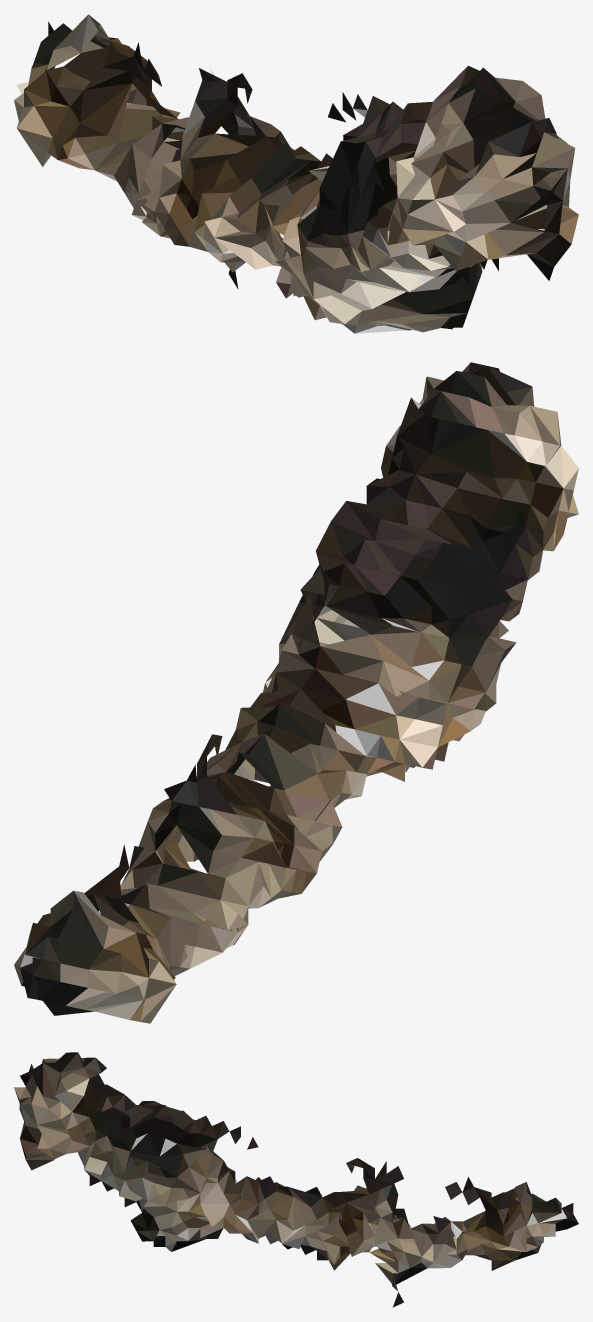
File: B09_1_bone_longbow.obj
The picture shows the model from 3 angles, top to bottom: view 1: azimuth 30°, elevation 25°; view 2: azimuth 150°, elevation 25°; view 3: azimuth 270°, elevation 25°; orthographic projection. The views are drawn at different scales.
Parts seen in each view (by area): view 1: B09_1_bone_longbow; view 2: B09_1_bone_longbow; view 3: B09_1_bone_longbow.
Part boxes in pixels (x1=…): B09_1_bone_longbow: x1=14, y1=14, x2=578, y2=333; B09_1_bone_longbow: x1=14, y1=362, x2=578, y2=1023; B09_1_bone_longbow: x1=14, y1=1052, x2=578, y2=1307.
Bounding box in the file's own units: 22 × 47 × 97.
